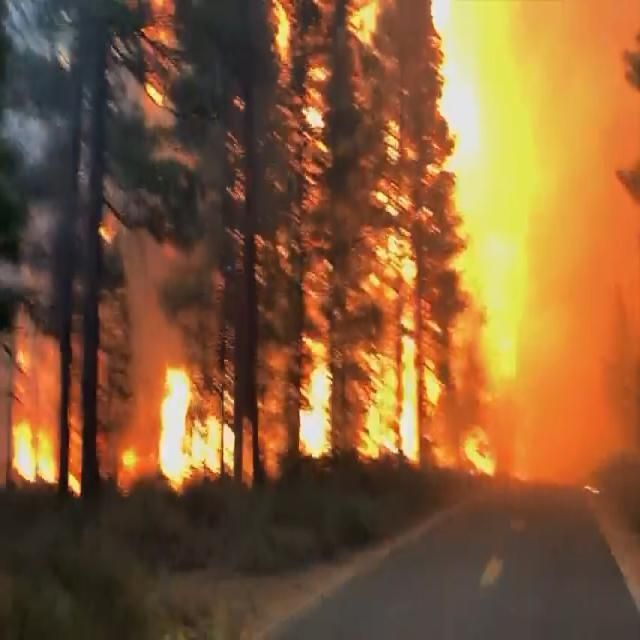Fire: (10, 4, 501, 484)
